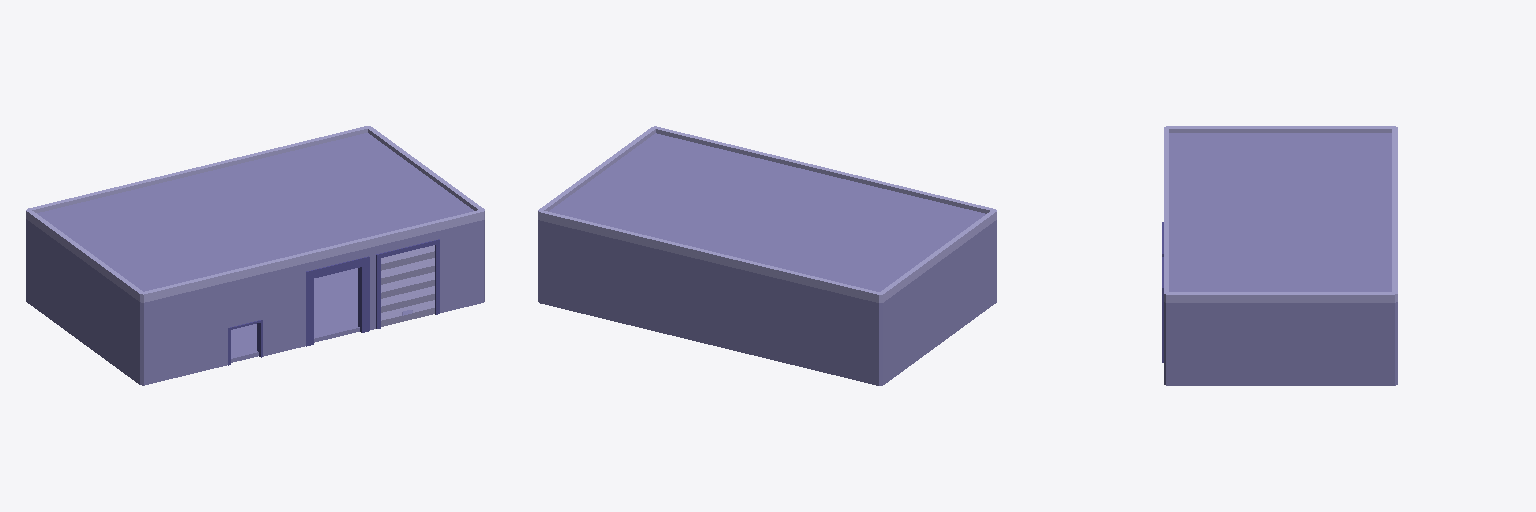
File: WorkshopModel.obj
3 renders of one model, left to right at view 1: azimuth 30°, elevation 25°; view 2: azimuth 150°, elevation 25°; view 3: azimuth 270°, elevation 25°, orthographic.
Parts seen in each view (by area): view 1: mergedBlocks; view 2: mergedBlocks; view 3: mergedBlocks.
Part boxes in pixels (left/top/right/bottom): mergedBlocks: left=26, top=126, right=484, bottom=385; mergedBlocks: left=538, top=126, right=996, bottom=385; mergedBlocks: left=1162, top=126, right=1397, bottom=385.
Size of the model in its own units: 8.72 by 2.2 by 5.16.